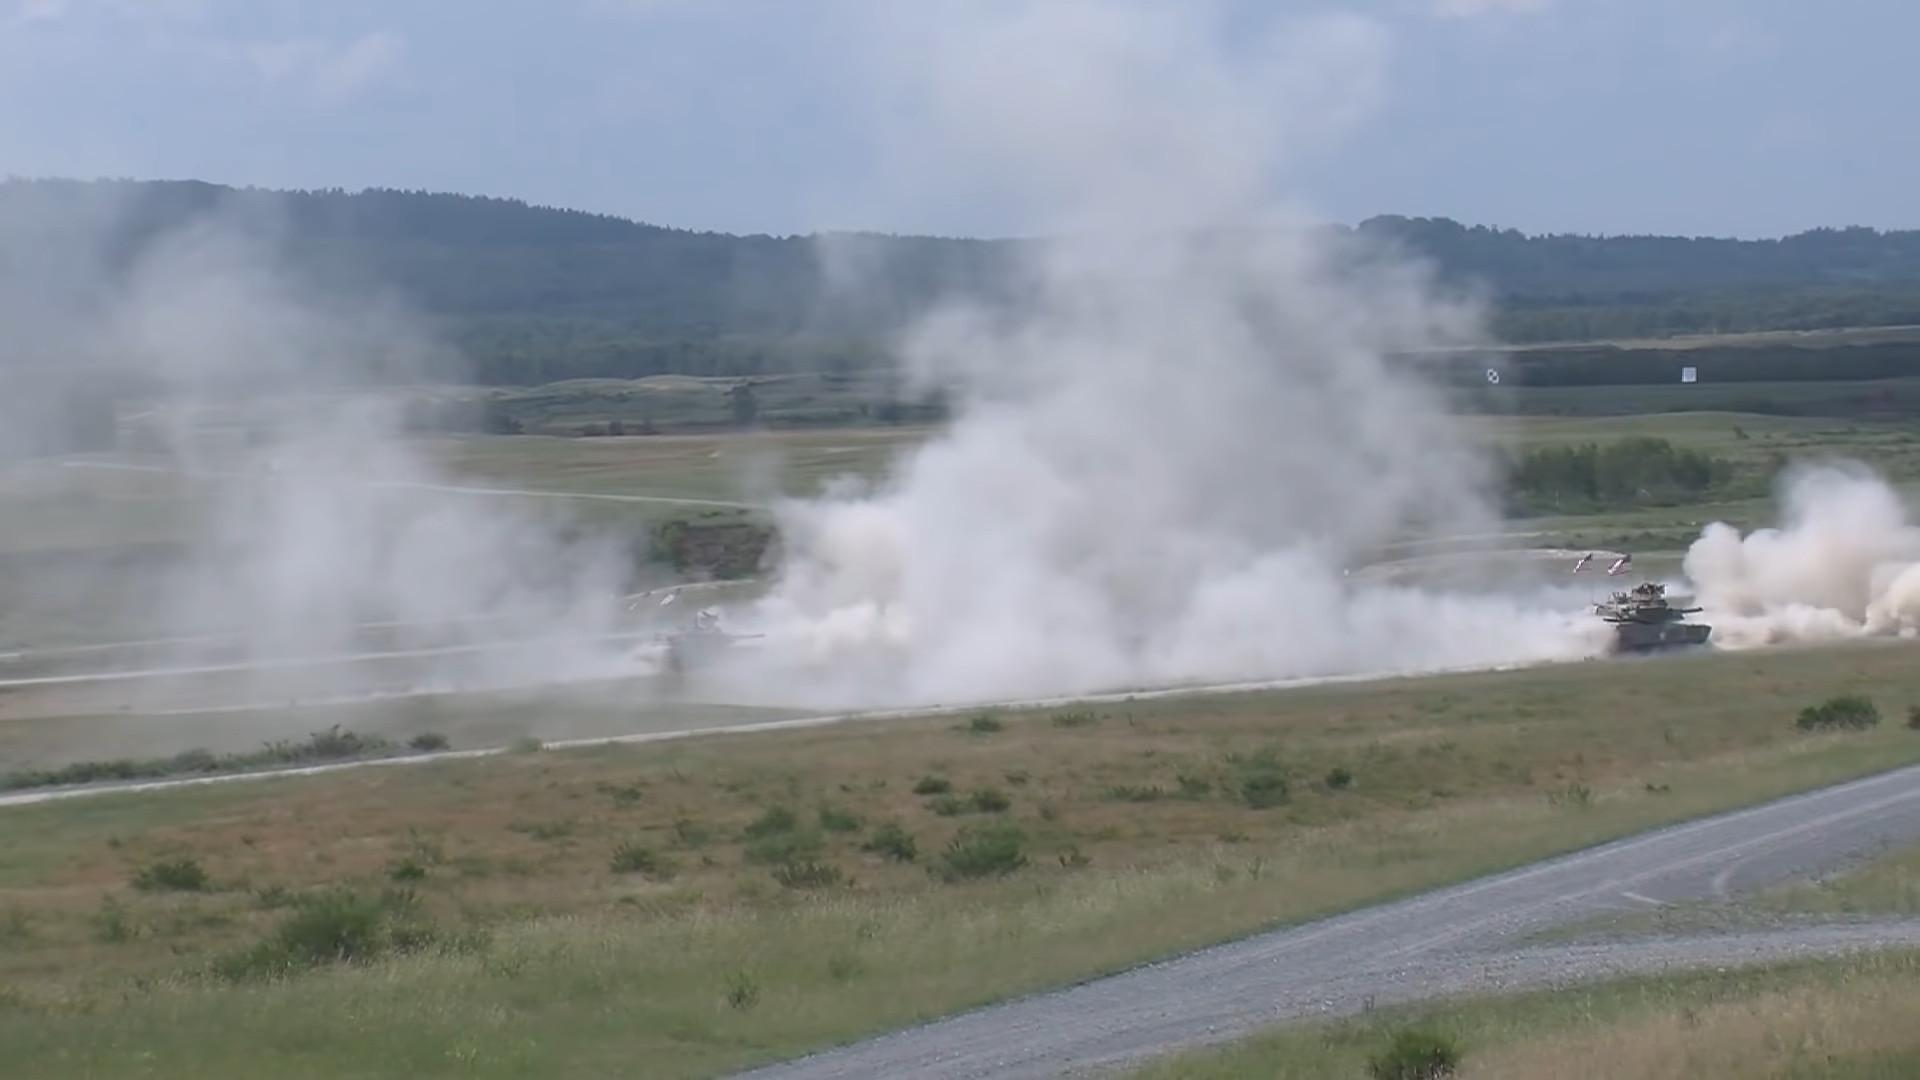tank: (1590, 597, 1710, 655), (636, 629, 765, 670)
